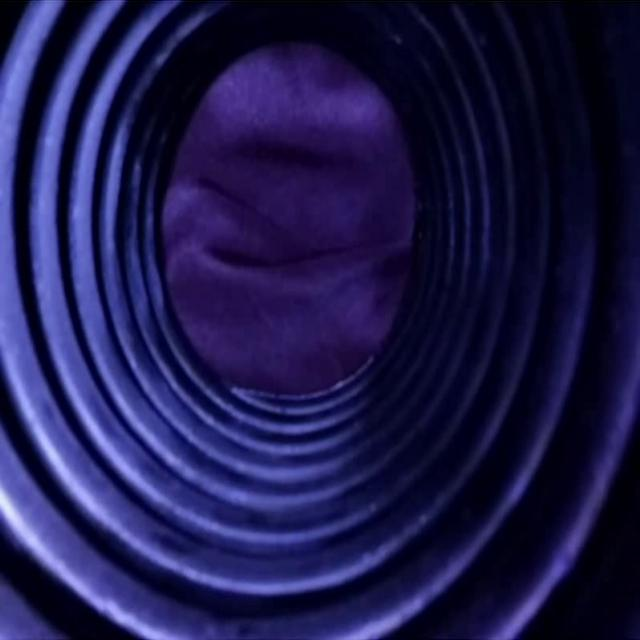block: (161, 45, 415, 387)
